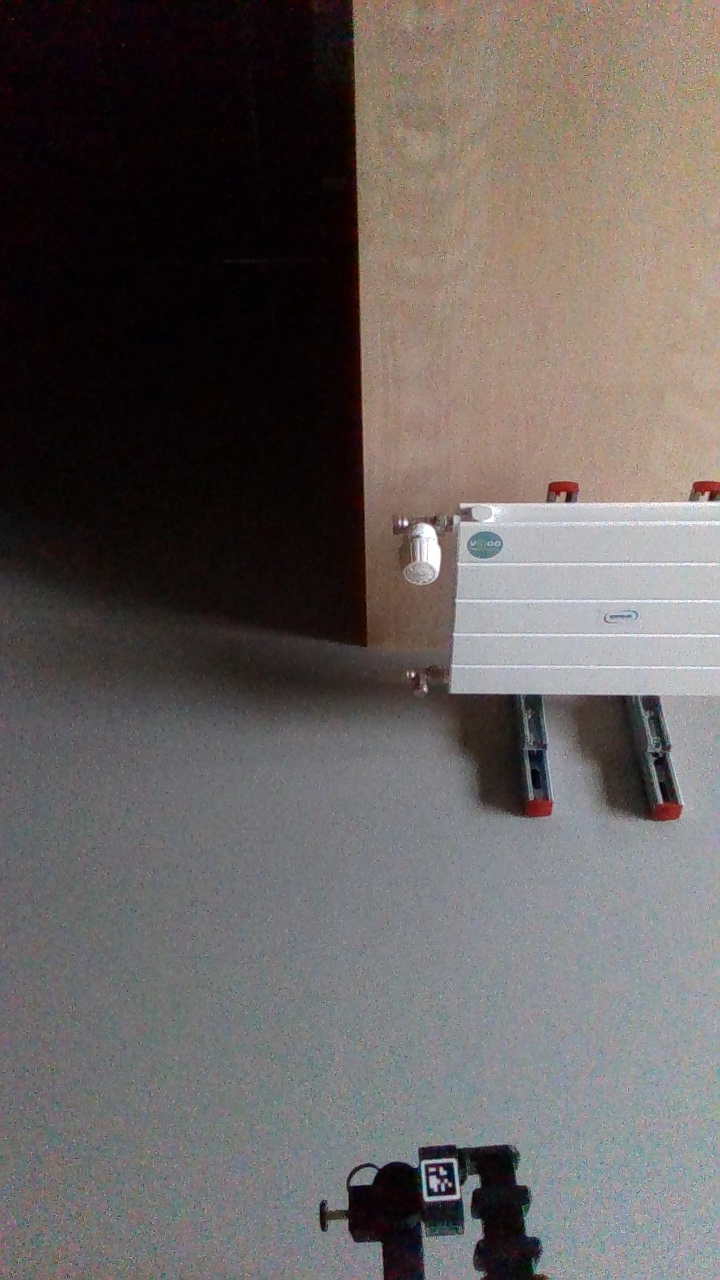Knob_Radiator: (393, 517, 447, 597)
Radiator: (447, 495, 720, 698)
